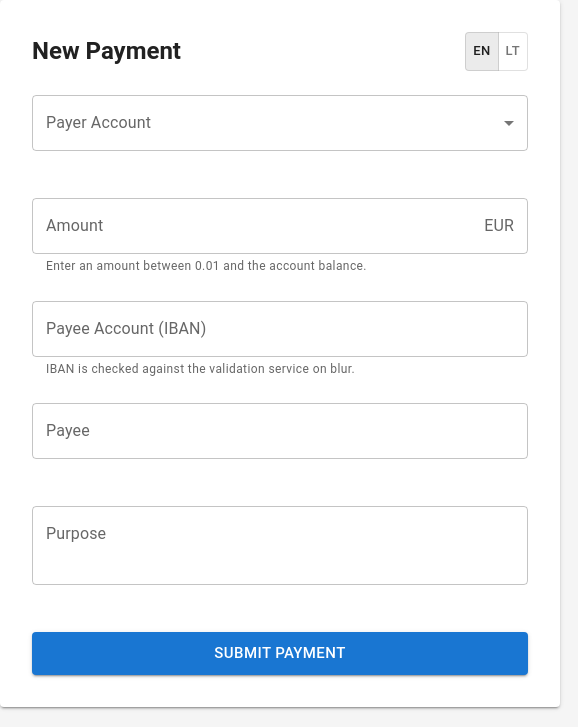
it: PaymentForm › shows the selected account's balance
The width and height of the screenshot is (578, 727).
Click the dropdown named "Payer Account" at x=280, y=123, box [32, 95, 528, 151]
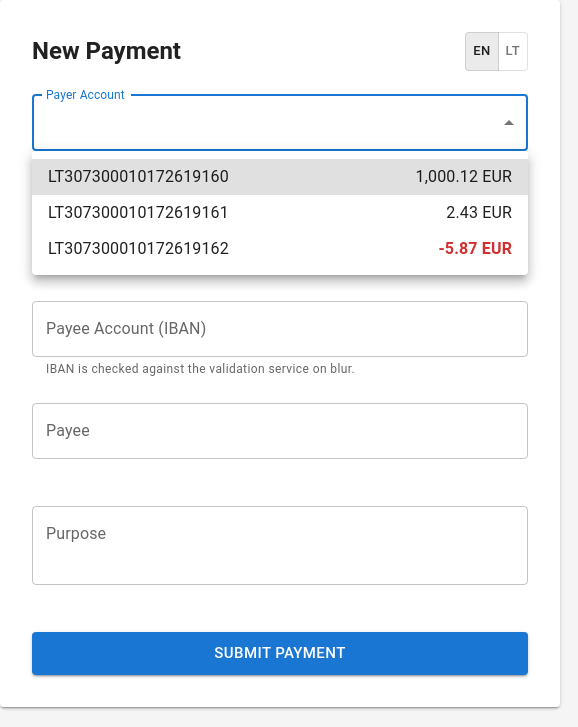
Click the option "LT307300010172619160 1,000.12 EUR" at x=138, y=176, box [32, 159, 528, 195]
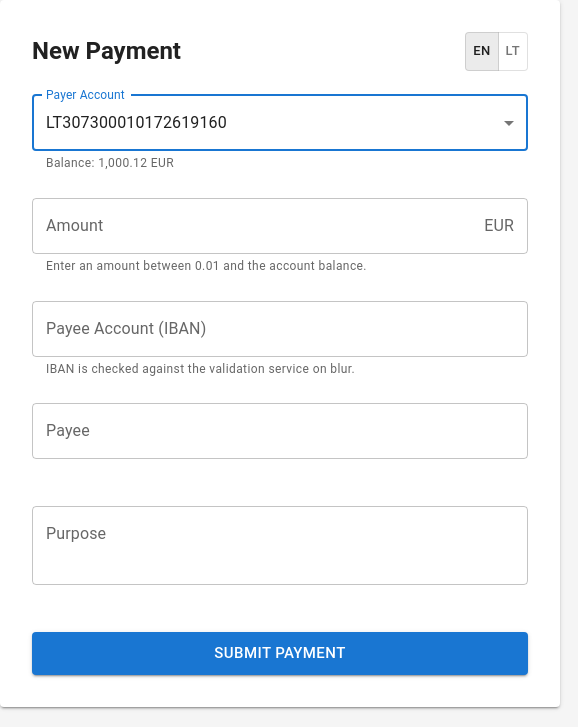
Expected: the text "Balance: 1,000.12 EUR" is shown, [46, 156, 174, 170]
